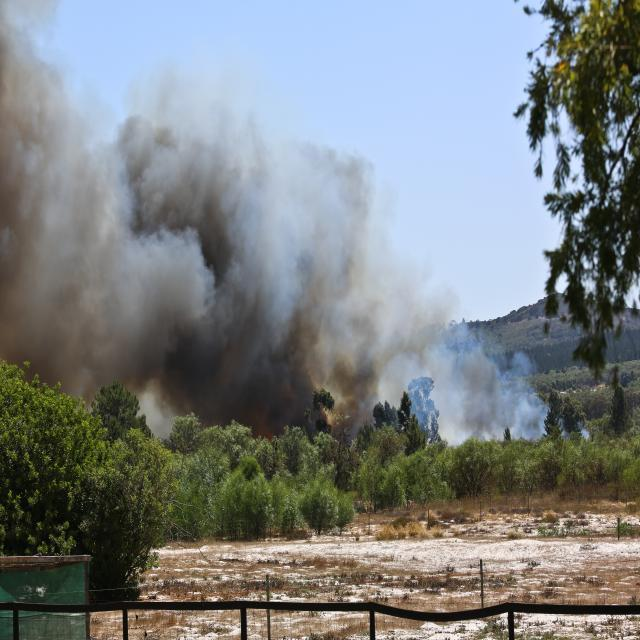Smoke: (30, 49, 400, 374)
